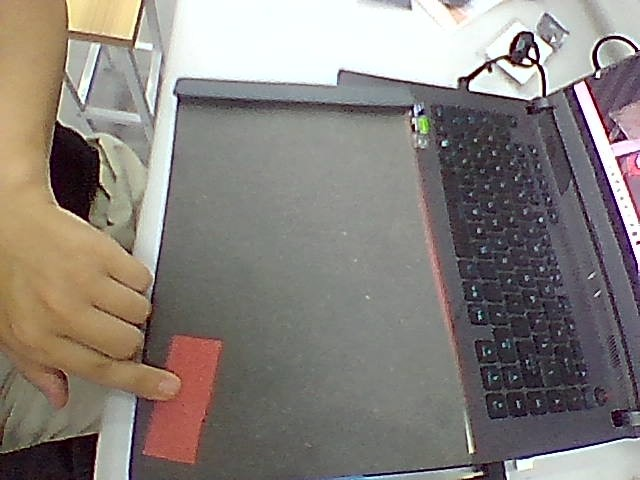card: (143, 335, 222, 464)
